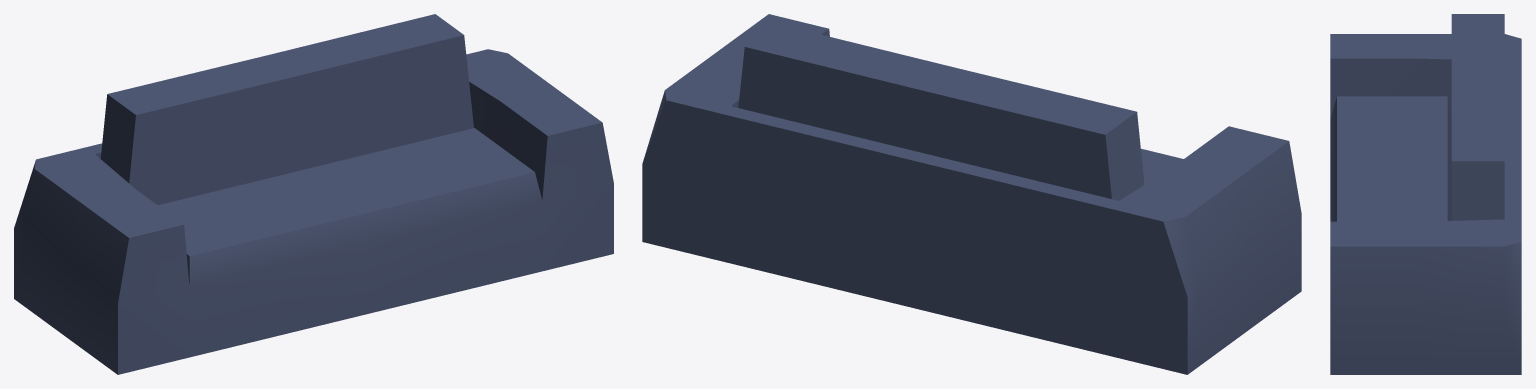
Rendered from couch.fbx.
The picture shows the model from 3 angles, left to right: view 1: azimuth 30°, elevation 25°; view 2: azimuth 150°, elevation 25°; view 3: azimuth 270°, elevation 25°; orthographic projection. The views are drawn at different scales.
Parts seen in each view (by area): view 1: pCube1; view 2: pCube1; view 3: pCube1.
Boxes of the visible parts, x1,y1,x2,y2 form: pCube1: (14,14,613,374); pCube1: (642,14,1301,374); pCube1: (1330,14,1521,374).
Size of the model in its own units: 7.32 by 2.7 by 2.65.
